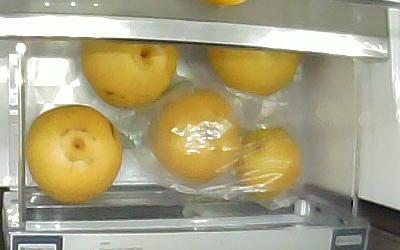pear: (26, 105, 123, 204), (81, 40, 180, 109), (205, 45, 302, 97)
pear_vinyl: (149, 91, 240, 184), (238, 126, 303, 200)
